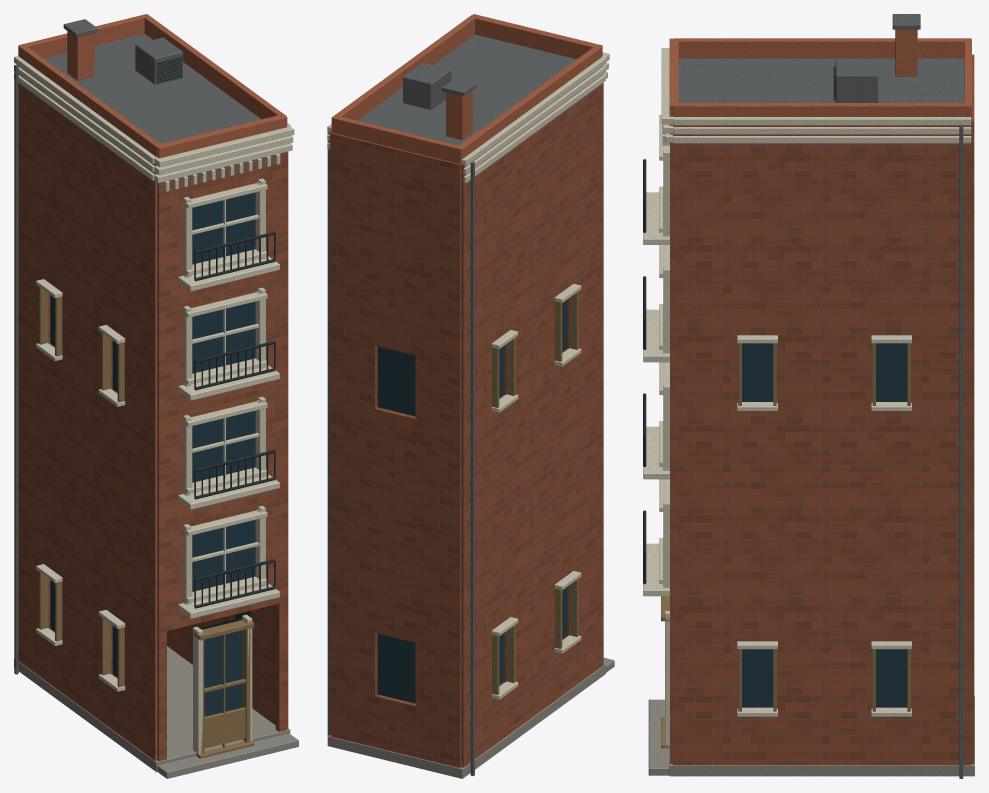
File: OFFC22_lod1.glb
3 views of the same model, side by side, from view 1: azimuth 30°, elevation 25°; view 2: azimuth 150°, elevation 25°; view 3: azimuth 270°, elevation 25° (orthographic). The views are drawn at different scales.
Visible parts, largest first — view 1: OFFC22_LOD1; view 2: OFFC22_LOD1; view 3: OFFC22_LOD1.
Boxes of the visible parts, x1=… form: OFFC22_LOD1: x1=14, y1=14, x2=298, y2=778; OFFC22_LOD1: x1=327, y1=14, x2=614, y2=778; OFFC22_LOD1: x1=643, y1=14, x2=974, y2=778.
Bounding box in the file's own units: 3.71 × 15.65 × 6.68.
9 materials, 7 textured.
